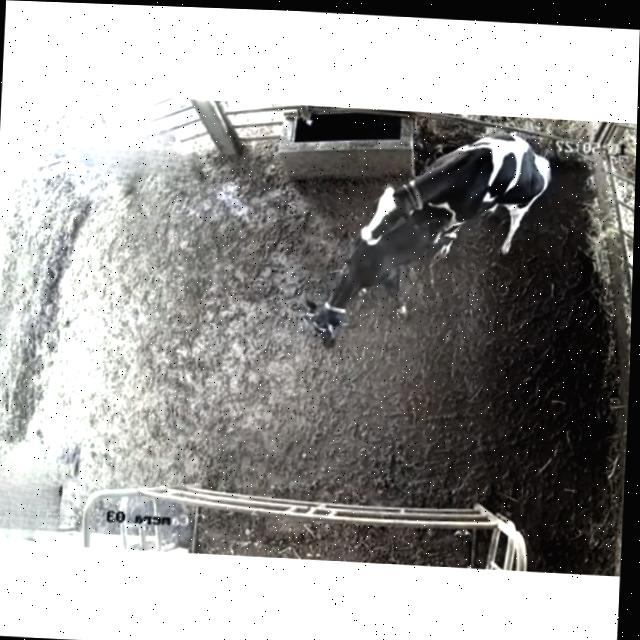ride: (350, 120, 574, 261)
